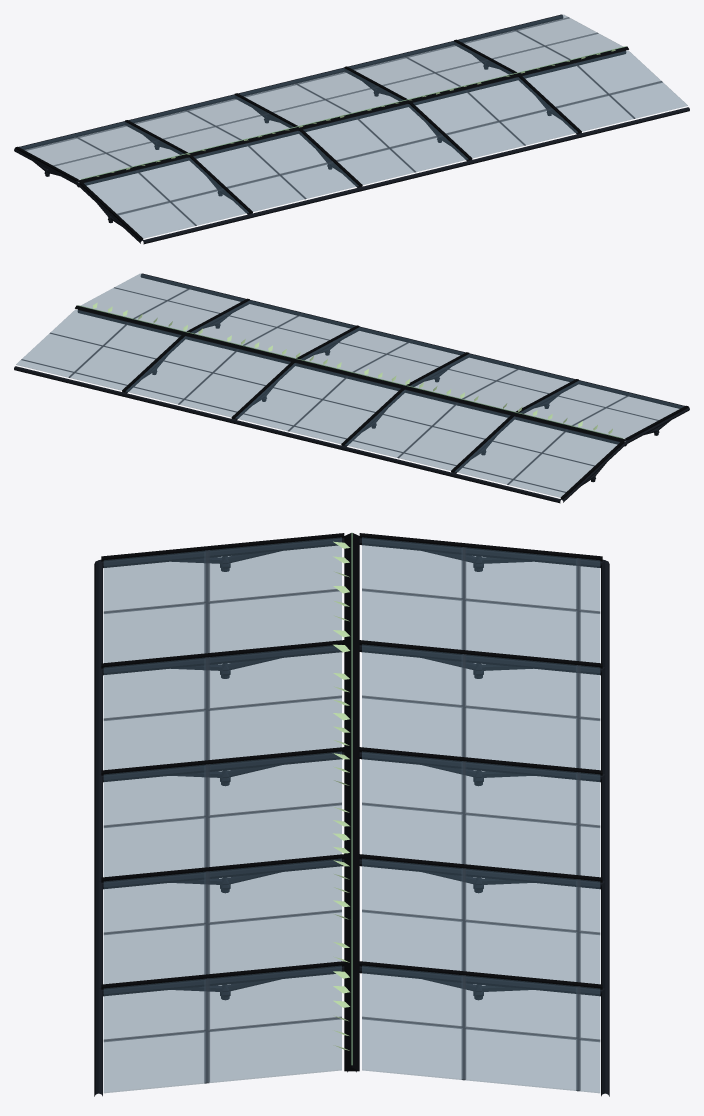
3 renders of one model, top to bottom at view 1: azimuth 30°, elevation 25°; view 2: azimuth 150°, elevation 25°; view 3: azimuth 270°, elevation 25°, orthographic. The views are drawn at different scales.
Visible parts, largest first — view 1: Crown_Glass_Panes, Crown_Frame, Crown_Glazing_Caps, Ridge_Cap, Ridge_Vine; view 2: Crown_Glass_Panes, Crown_Frame, Crown_Glazing_Caps, Ridge_Cap, Ridge_Vine, Ridge_Vine_Leaves; view 3: Crown_Glass_Panes, Crown_Frame, Crown_Glazing_Caps, Ridge_Cap, Ridge_Vine_Leaves, Ridge_Vine.
Part boxes in pixels (x1,y1,x2,y2): Crown_Glass_Panes: (20,15,687,238); Crown_Frame: (14,14,689,244); Crown_Glazing_Caps: (15,39,581,240); Ridge_Cap: (78,46,628,182); Ridge_Vine: (80,46,626,179); Crown_Glass_Panes: (16,274,683,497); Crown_Frame: (14,273,689,503); Crown_Glazing_Caps: (122,298,688,499); Ridge_Cap: (75,305,625,441); Ridge_Vine: (77,305,623,438); Ridge_Vine_Leaves: (92,302,612,434); Crown_Glass_Panes: (103,537,600,1092); Crown_Frame: (94,538,609,1096); Crown_Glazing_Caps: (101,533,602,989); Ridge_Cap: (344,533,359,1071); Ridge_Vine_Leaves: (333,541,349,1050); Ridge_Vine: (351,532,352,1065).
Size of the model in its own units: 20.08 by 0.7777 by 8.14.
Materials: 5 (3 with a texture image).
